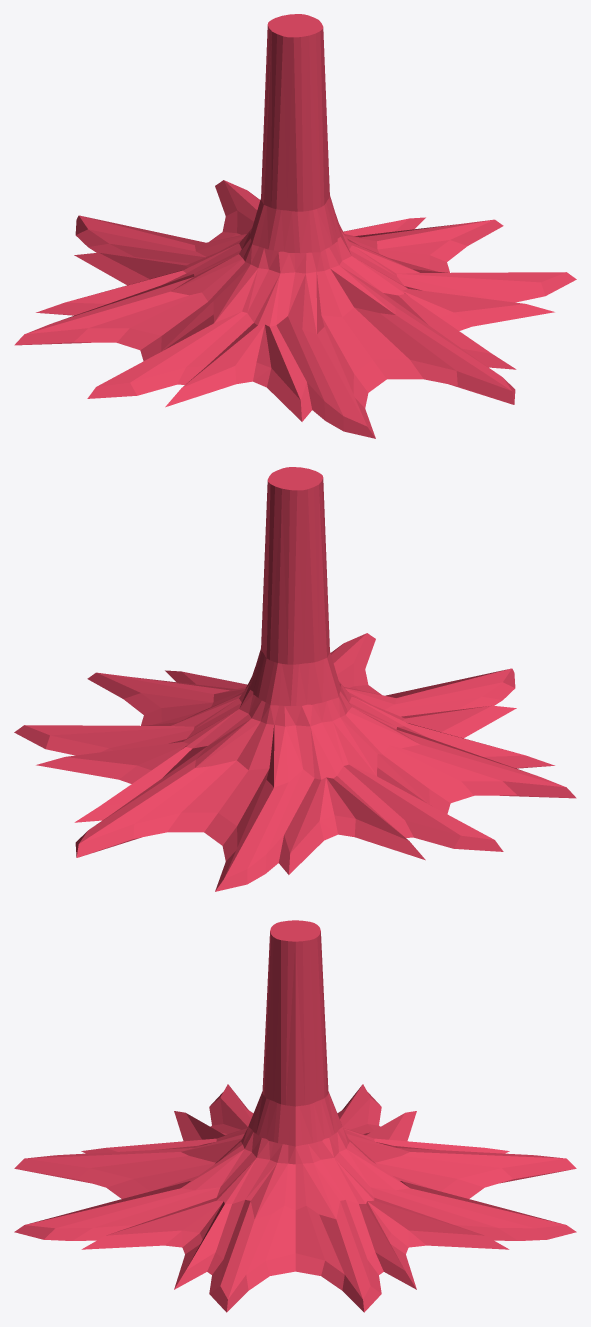
Rendered from Tree.fbx.
3 renders of one model, top to bottom at view 1: azimuth 30°, elevation 25°; view 2: azimuth 150°, elevation 25°; view 3: azimuth 270°, elevation 25°, orthographic. The views are drawn at different scales.
Visible parts, largest first — view 1: Cube; view 2: Cube; view 3: Cube.
Part boxes in pixels (x1=…): Cube: x1=14, y1=14, x2=576, y2=438; Cube: x1=14, y1=467, x2=576, y2=891; Cube: x1=14, y1=920, x2=576, y2=1312.
Size of the model in its own units: 1830 by 1091 by 1938.
